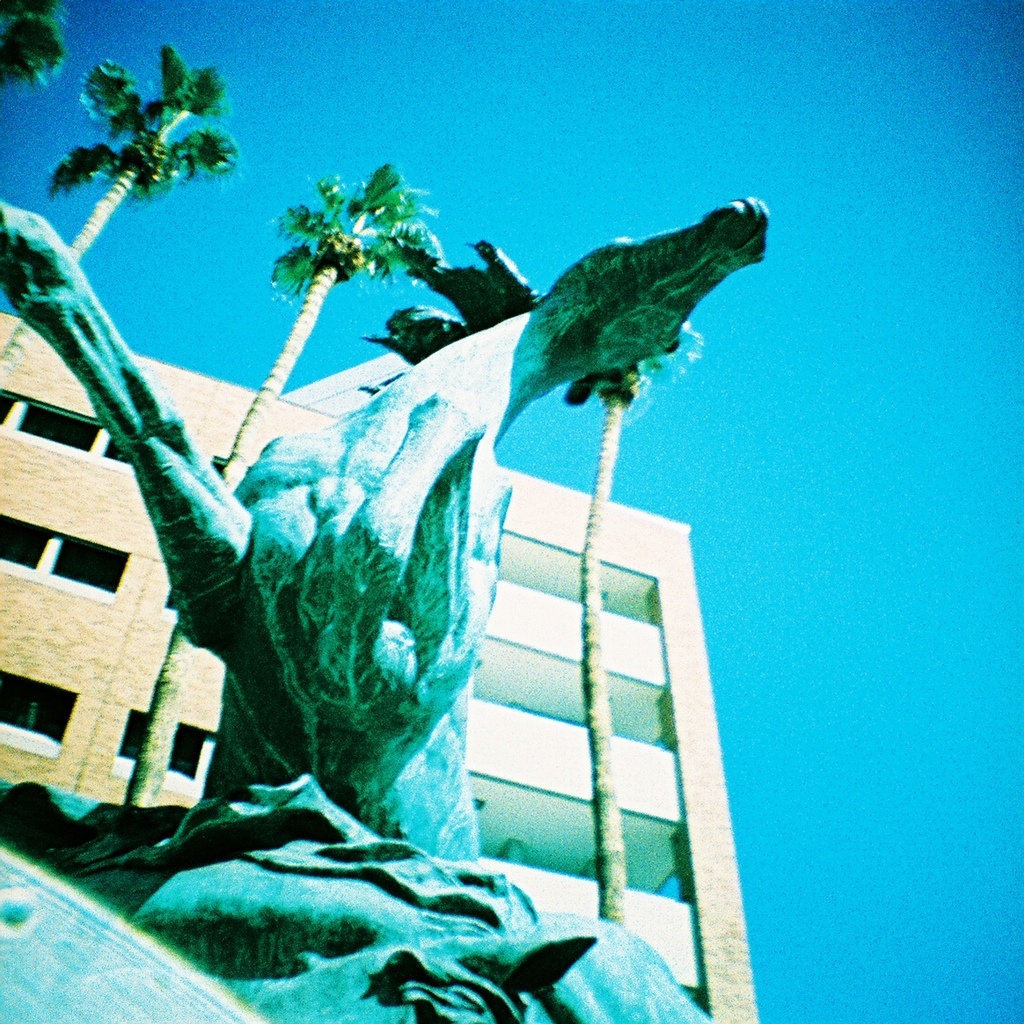Tree: (129, 149, 439, 809), (0, 37, 239, 377), (570, 350, 652, 921), (0, 0, 66, 82)
